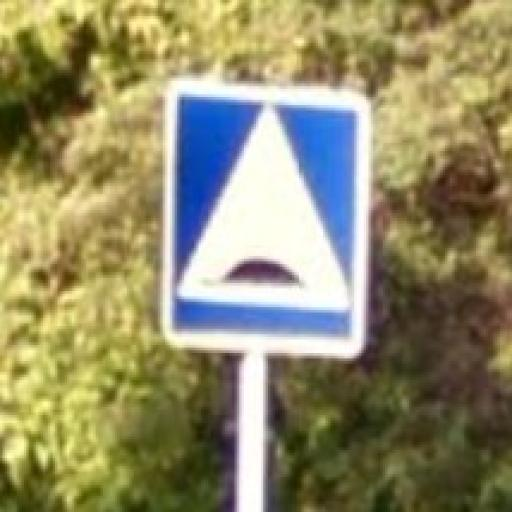traffic_sign: (161, 82, 372, 357)
